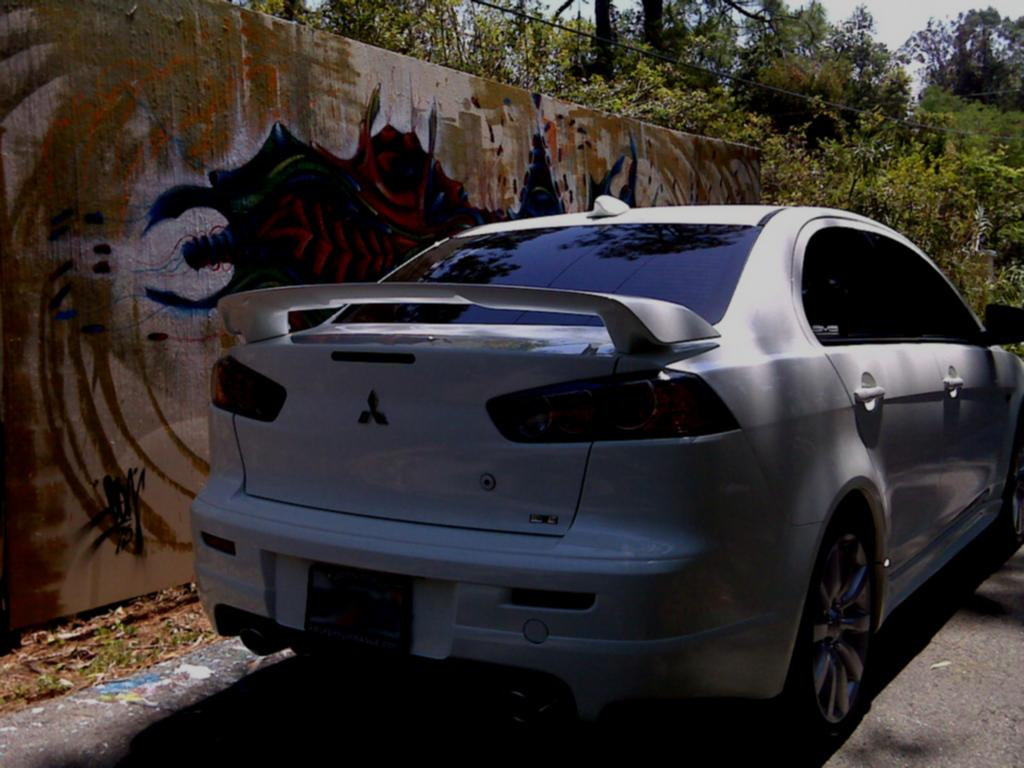Mitsubishi: (342, 384, 409, 437)
